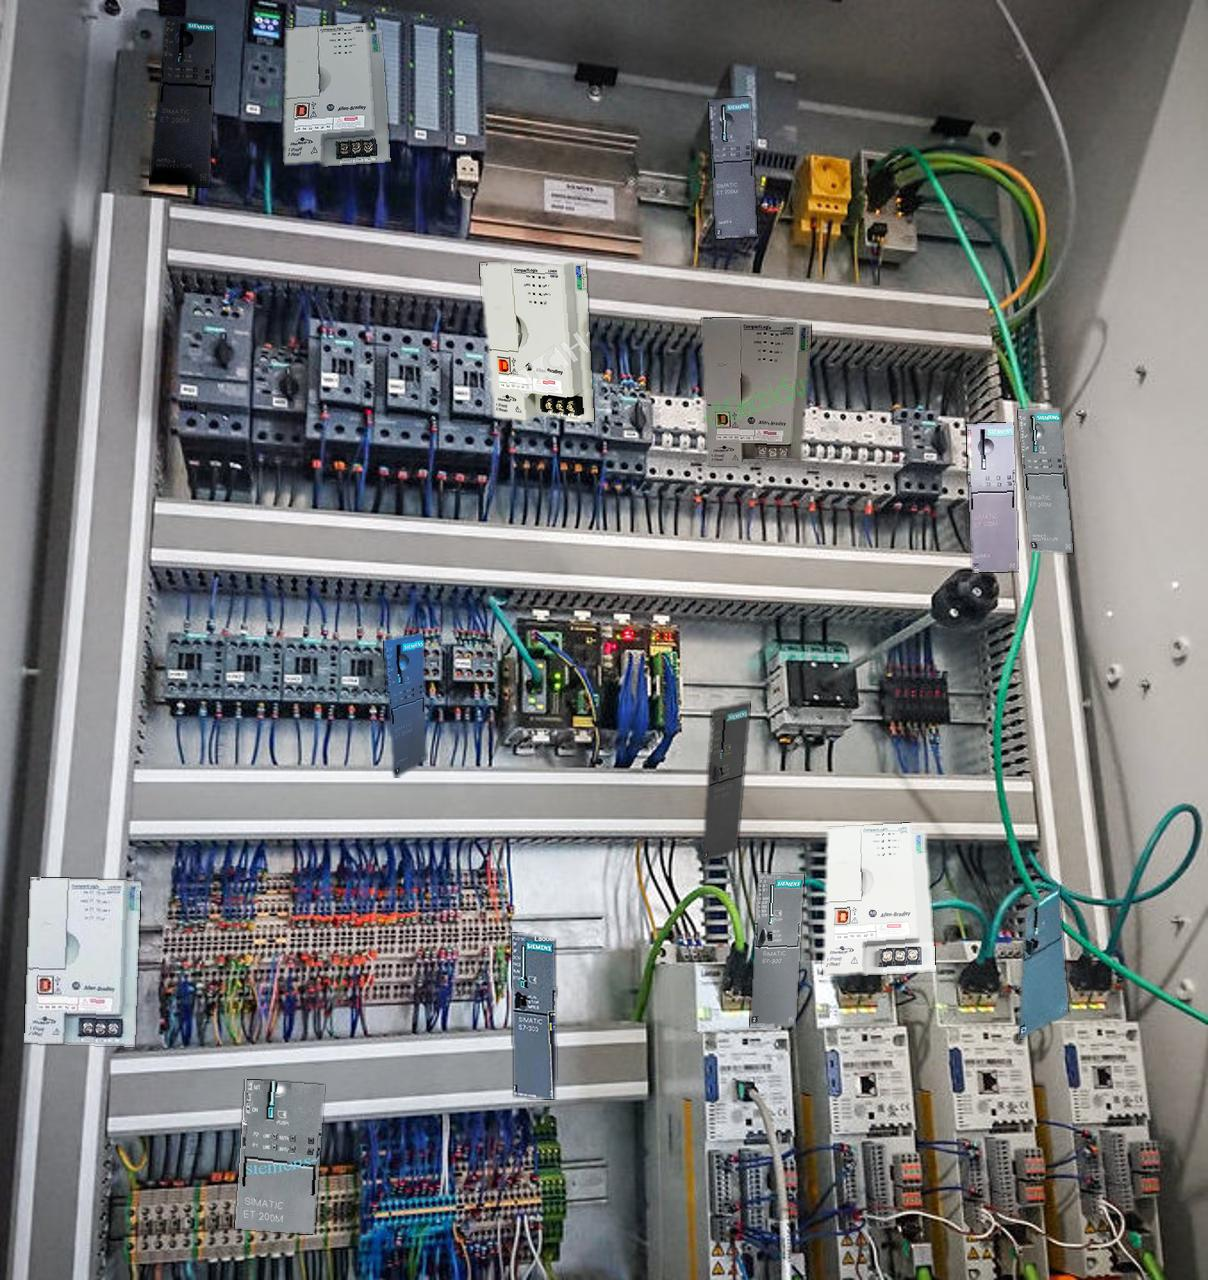AllenBradley: (24, 877, 140, 1045), (480, 261, 593, 421), (823, 823, 936, 974), (701, 317, 809, 466), (283, 22, 391, 166)
Siemens: (750, 873, 803, 1026), (1018, 885, 1068, 1039), (702, 702, 749, 861), (512, 932, 555, 1098)
